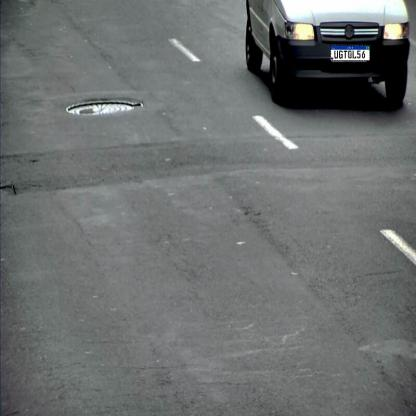PlacaM: (330, 45, 370, 61)
